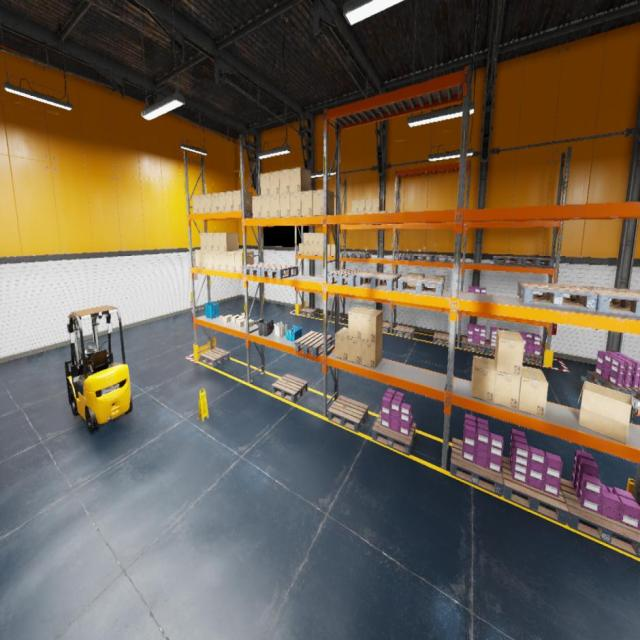box: (578, 381, 633, 444), (518, 366, 548, 417), (494, 329, 524, 376), (494, 360, 520, 410), (472, 355, 496, 402), (348, 306, 369, 339), (362, 308, 382, 342), (361, 336, 382, 368), (290, 166, 312, 193), (312, 189, 334, 215), (233, 189, 252, 211), (336, 328, 348, 360), (235, 252, 254, 272), (219, 232, 239, 251), (348, 337, 361, 365), (227, 251, 242, 271), (301, 190, 312, 216), (290, 192, 301, 217), (280, 194, 290, 218), (280, 169, 290, 193), (260, 172, 270, 196), (270, 195, 280, 218), (270, 171, 279, 195), (261, 195, 270, 218), (252, 196, 261, 219), (218, 191, 226, 212), (211, 192, 219, 212), (204, 194, 212, 213), (192, 195, 200, 214), (213, 251, 221, 270), (212, 232, 220, 251), (226, 191, 233, 211), (434, 275, 444, 289), (194, 250, 202, 267), (406, 273, 416, 286), (387, 210, 397, 223), (372, 198, 382, 211), (198, 195, 205, 213), (220, 252, 227, 270), (207, 251, 214, 268), (201, 251, 208, 268), (206, 233, 213, 250), (200, 233, 207, 250), (379, 210, 387, 224), (319, 233, 329, 244), (415, 274, 424, 286), (331, 244, 340, 256), (365, 198, 372, 211), (358, 199, 365, 212), (351, 199, 358, 212), (365, 212, 372, 224), (351, 212, 358, 224), (236, 314, 244, 324), (372, 211, 378, 224), (244, 319, 253, 327), (346, 212, 352, 224), (308, 233, 314, 244), (237, 318, 245, 326), (232, 314, 240, 322), (223, 315, 232, 322), (314, 244, 319, 256), (308, 244, 314, 254), (314, 233, 319, 244), (303, 233, 308, 244), (299, 244, 304, 254), (328, 244, 332, 256), (319, 244, 323, 256), (334, 208, 341, 214), (304, 244, 308, 254)
forklift: (66, 305, 132, 432)
pallets: (560, 478, 640, 558), (501, 455, 569, 525), (450, 438, 503, 496), (517, 281, 598, 311), (372, 410, 416, 456), (582, 285, 639, 316), (586, 371, 640, 400), (328, 396, 368, 433), (272, 374, 308, 402), (294, 331, 332, 357), (398, 276, 444, 295), (356, 272, 401, 290), (328, 270, 368, 286), (200, 347, 230, 367), (261, 264, 298, 279), (243, 264, 279, 276), (461, 336, 485, 354), (433, 332, 456, 346), (394, 324, 416, 338), (520, 257, 554, 266), (493, 255, 522, 265), (523, 353, 543, 365), (300, 307, 317, 317), (412, 254, 435, 261), (396, 253, 415, 261), (435, 255, 454, 262), (485, 342, 495, 355), (352, 252, 372, 258), (339, 252, 356, 258), (382, 322, 390, 332)
